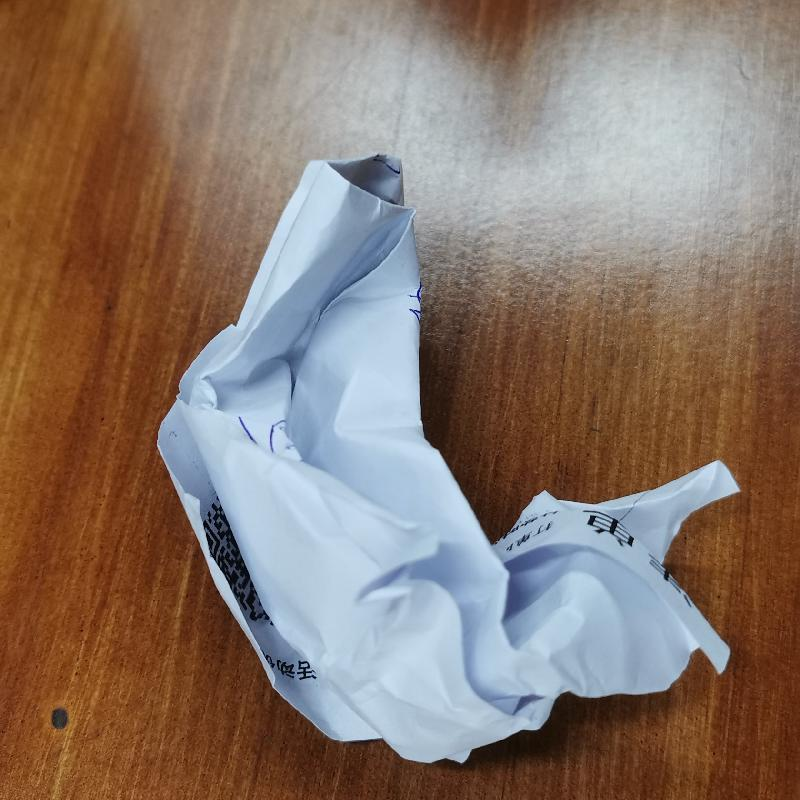spitball: (150, 152, 744, 765)
